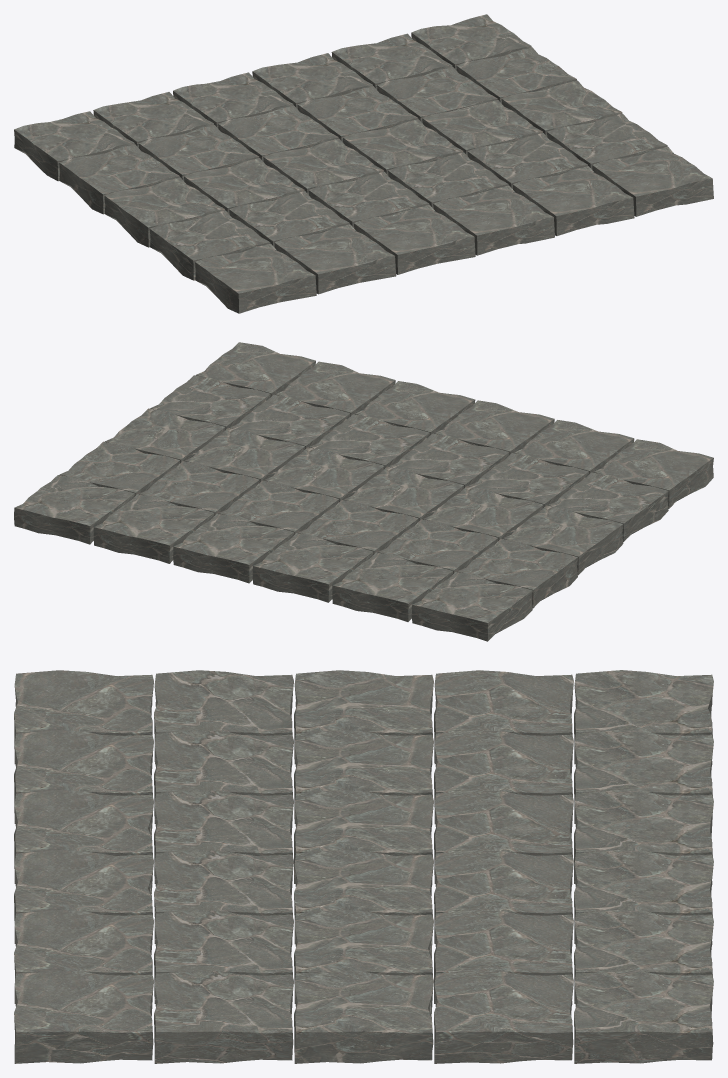
File: pblタイル.fbx
3 views of the same model, one above another, from view 1: azimuth 30°, elevation 25°; view 2: azimuth 150°, elevation 25°; view 3: azimuth 270°, elevation 25° (orthographic). The views are drawn at different scales.
Visible parts, largest first — view 1: Cube; view 2: Cube; view 3: Cube.
Boxes of the visible parts, x1=… form: Cube: x1=14, y1=14, x2=713, y2=313; Cube: x1=14, y1=342, x2=713, y2=641; Cube: x1=14, y1=670, x2=713, y2=1063.
Bounding box in the file's own units: 1247 × 57.92 × 1025.
